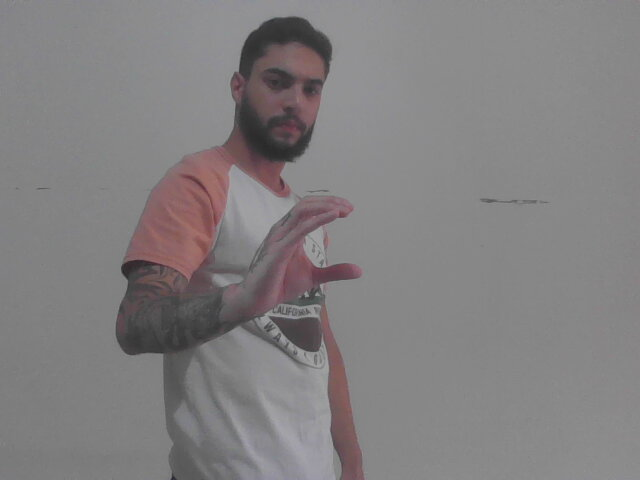c: (238, 192, 370, 321)
